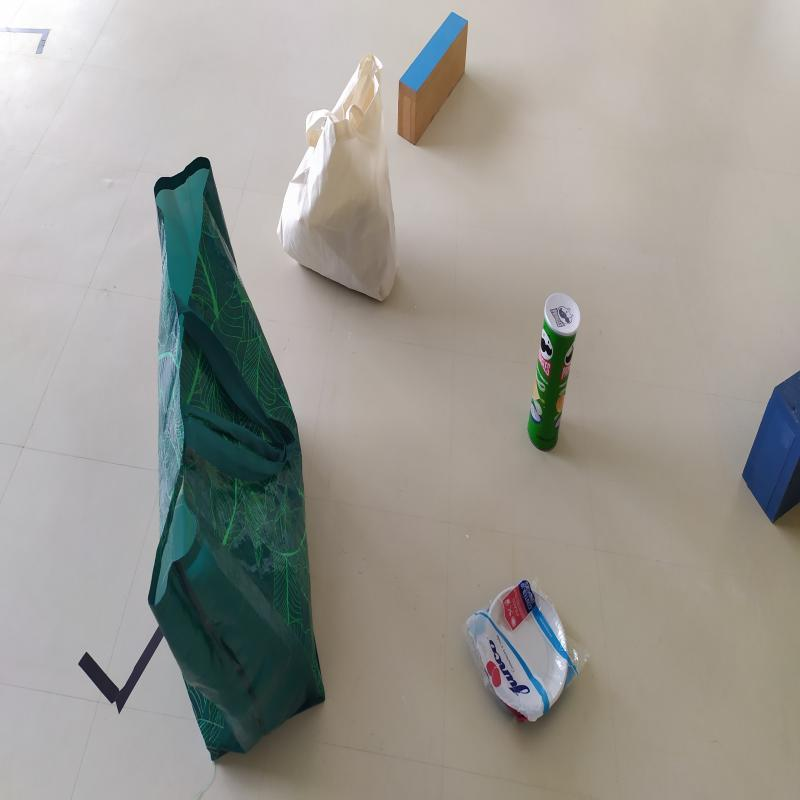Bag: (150, 152, 326, 764), (276, 47, 402, 312)
Plate: (479, 583, 574, 729)
Pringles: (527, 291, 581, 454)
